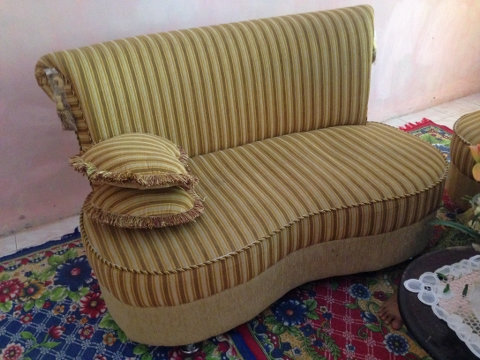kursi: (35, 4, 448, 356)
